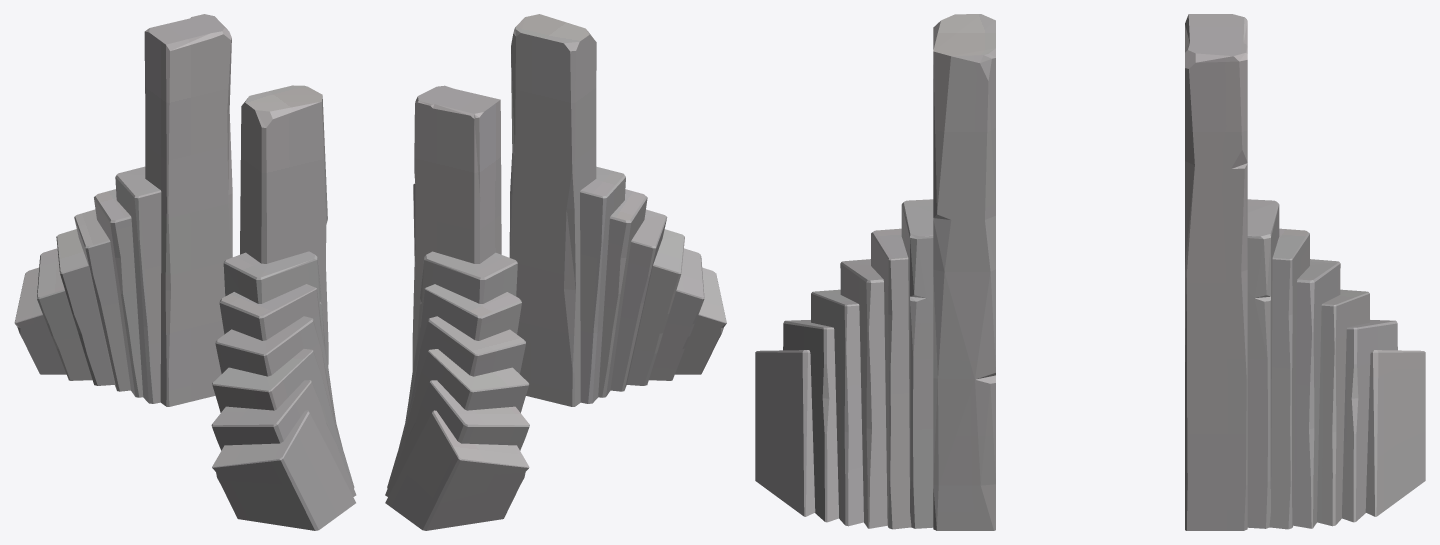
File: Secret_Potal.fbx
3 views of the same model, side by side, from view 1: azimuth 30°, elevation 25°; view 2: azimuth 150°, elevation 25°; view 3: azimuth 270°, elevation 25° (orthographic). The views are drawn at different scales.
Parts seen in each view (by area): view 1: SM_Portal_01_Secret.mo; view 2: SM_Portal_01_Secret.mo; view 3: SM_Portal_01_Secret.mo.
Boxes of the visible parts, bbox=[...] form: SM_Portal_01_Secret.mo: bbox=[14, 14, 356, 530]; SM_Portal_01_Secret.mo: bbox=[385, 14, 726, 530]; SM_Portal_01_Secret.mo: bbox=[755, 14, 1425, 530].
Bounding box in the file's own units: 169 × 371 × 475.
